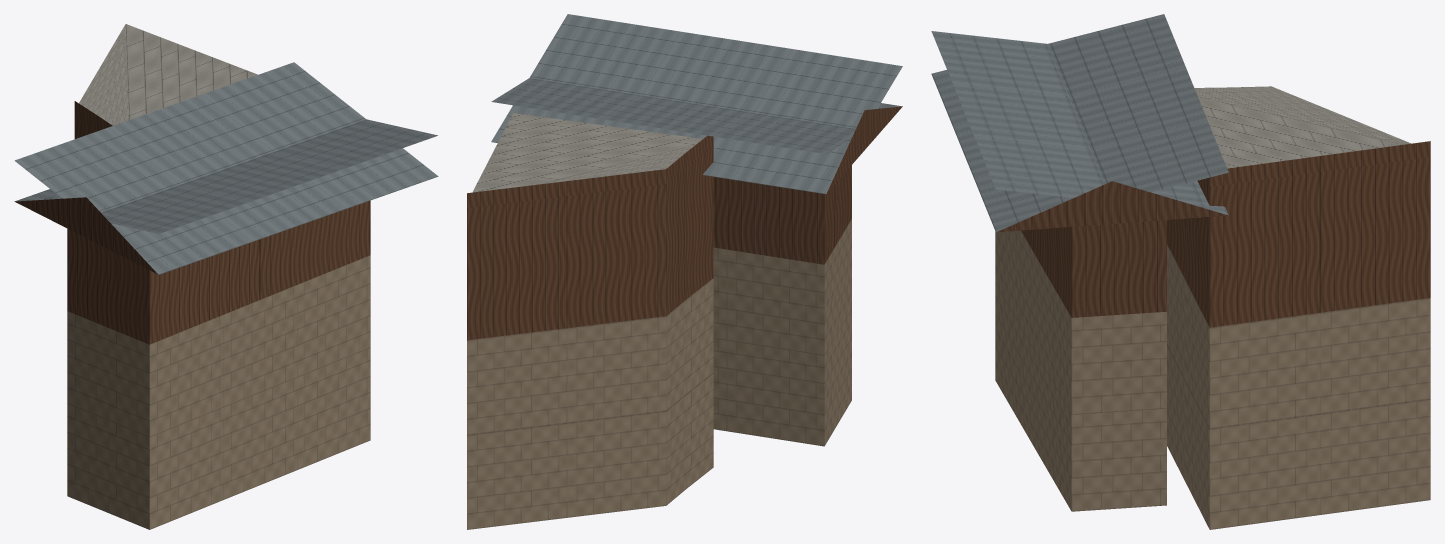
The model's file is bld_c17_27_383.gltf.
3 views of the same model, side by side, from view 1: azimuth 30°, elevation 25°; view 2: azimuth 150°, elevation 25°; view 3: azimuth 270°, elevation 25° (orthographic). The views are drawn at different scales.
Parts seen in each view (by area): view 1: bld_c17_27_383; view 2: bld_c17_27_383; view 3: bld_c17_27_383.
Part boxes in pixels (<box>): bld_c17_27_383: <box>14,24,438,529</box>; bld_c17_27_383: <box>467,14,902,529</box>; bld_c17_27_383: <box>931,14,1430,529</box>.
Size of the model in its own units: 8.79 by 8.5 by 10.56.
Materials: 5 (5 with a texture image).
